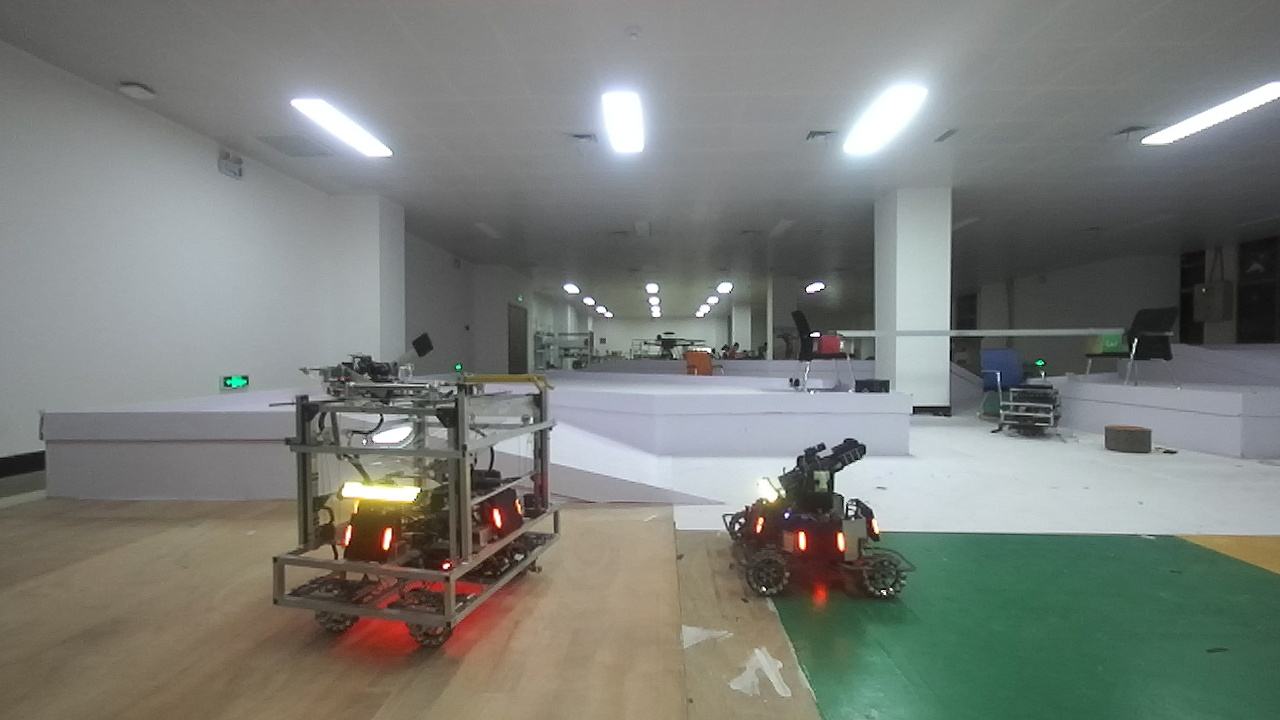car: (274, 349, 578, 653), (727, 432, 908, 613)
